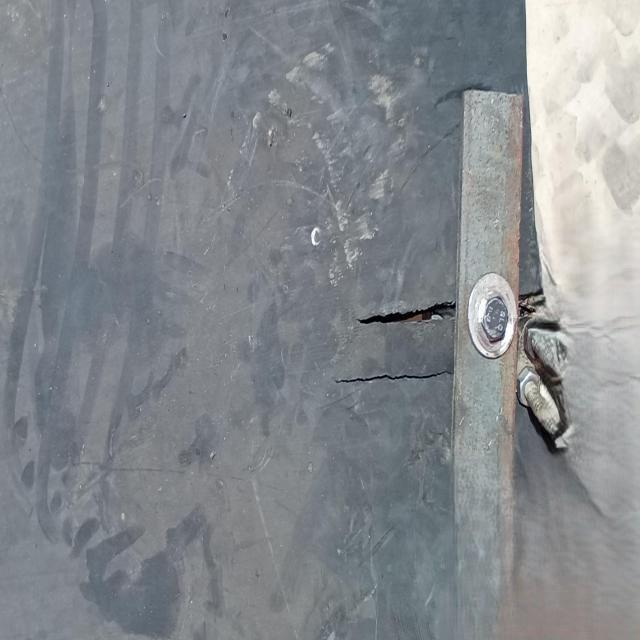Tear: (326, 359, 468, 399), (351, 294, 466, 342)
